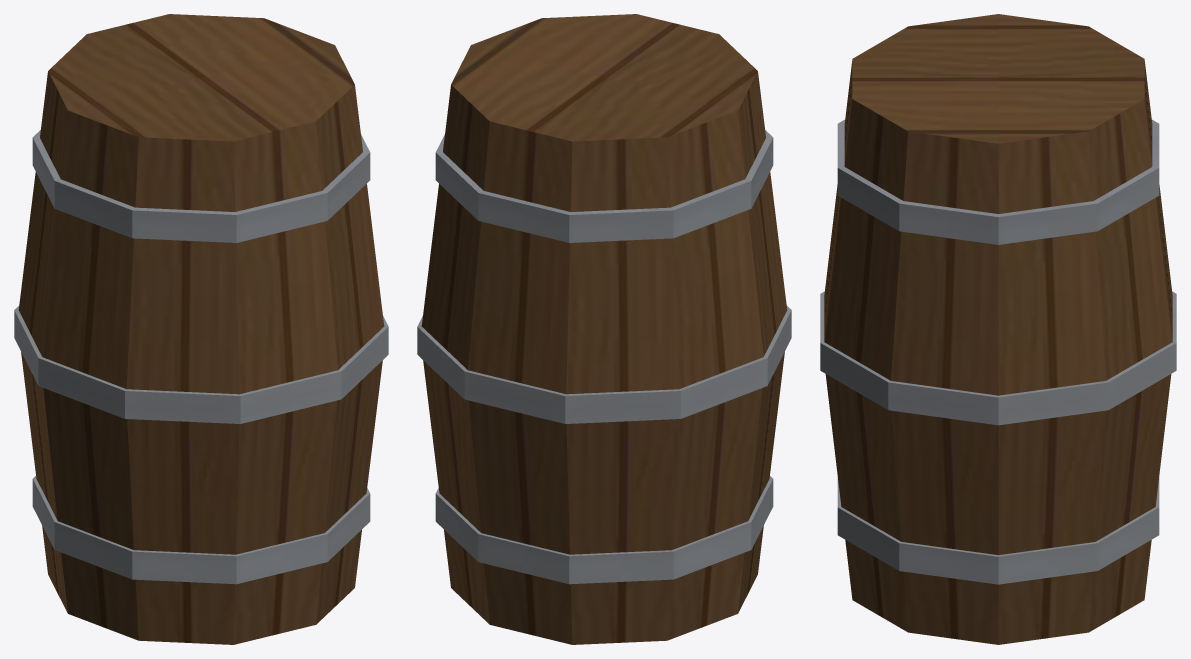
File: barrel.glb
The picture shows the model from 3 angles, left to right: view 1: azimuth 30°, elevation 25°; view 2: azimuth 150°, elevation 25°; view 3: azimuth 270°, elevation 25°; orthographic projection.
Visible parts, largest first — view 1: prop.barrel; view 2: prop.barrel; view 3: prop.barrel.
Boxes of the visible parts, x1,y1,x2,y2 form: prop.barrel: (14, 14, 388, 644); prop.barrel: (417, 14, 791, 644); prop.barrel: (820, 14, 1176, 644).
Size of the model in its own units: 0.61 by 0.9 by 0.5801.
Materials: 2 (2 with a texture image).
